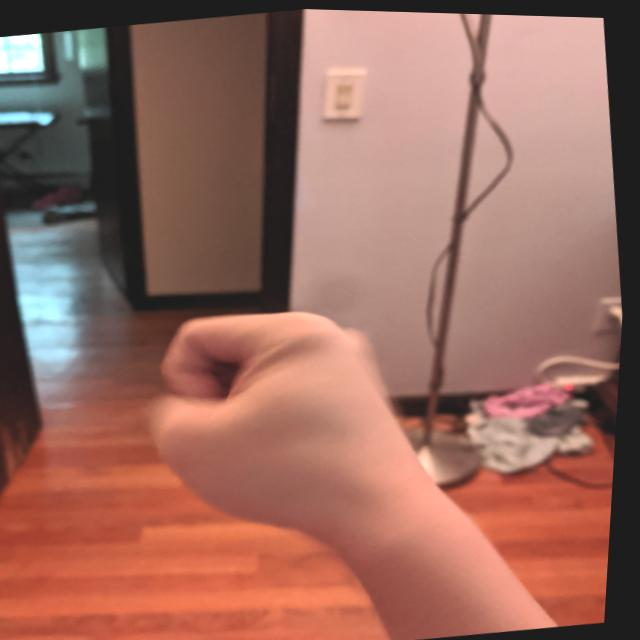J: (121, 278, 456, 563)
